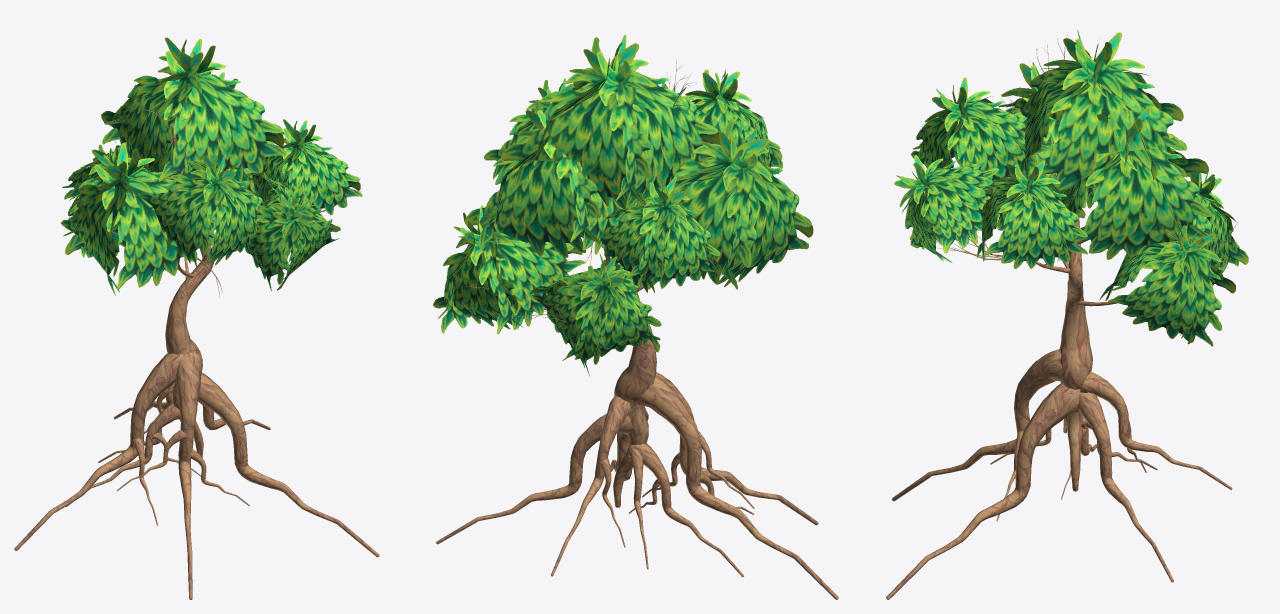
Rendered from Mangrove_Redo.fbx.
3 views of the same model, side by side, from view 1: azimuth 30°, elevation 25°; view 2: azimuth 150°, elevation 25°; view 3: azimuth 270°, elevation 25° (orthographic). The views are drawn at different scales.
Parts seen in each view (by area): view 1: Object005; view 2: Object005; view 3: Object005.
Boxes of the visible parts, x1,y1,x2,y2 form: Object005: (14,37,379,599); Object005: (433,34,838,599); Object005: (886,30,1248,599).
Size of the model in its own units: 1342 by 1328 by 1899.
